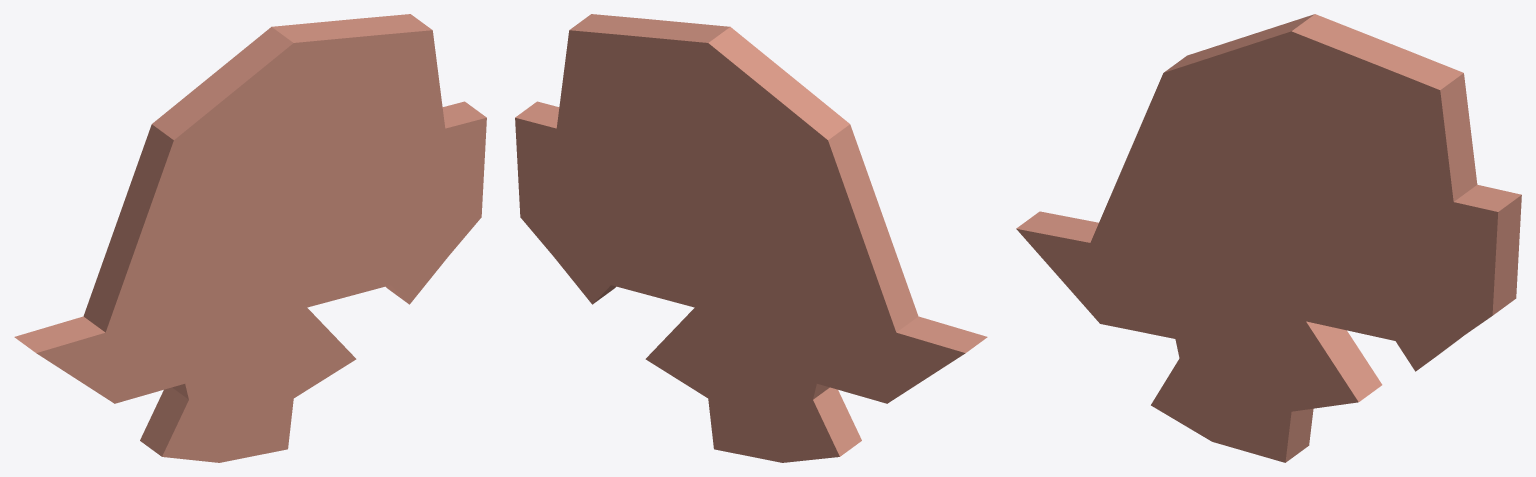
Rendered from san_juan_del_rio.fbx.
The picture shows the model from 3 angles, left to right: view 1: azimuth 30°, elevation 25°; view 2: azimuth 150°, elevation 25°; view 3: azimuth 330°, elevation 25°; orthographic projection. The views are drawn at different scales.
Visible parts, largest first — view 1: san_juan_del_rio; view 2: san_juan_del_rio; view 3: san_juan_del_rio.
Boxes of the visible parts, x1,y1,x2,y2 form: san_juan_del_rio: [14, 14, 486, 462]; san_juan_del_rio: [515, 14, 987, 462]; san_juan_del_rio: [1016, 14, 1521, 462].
Bounding box in the file's own units: 93.94 × 80.64 × 8.
